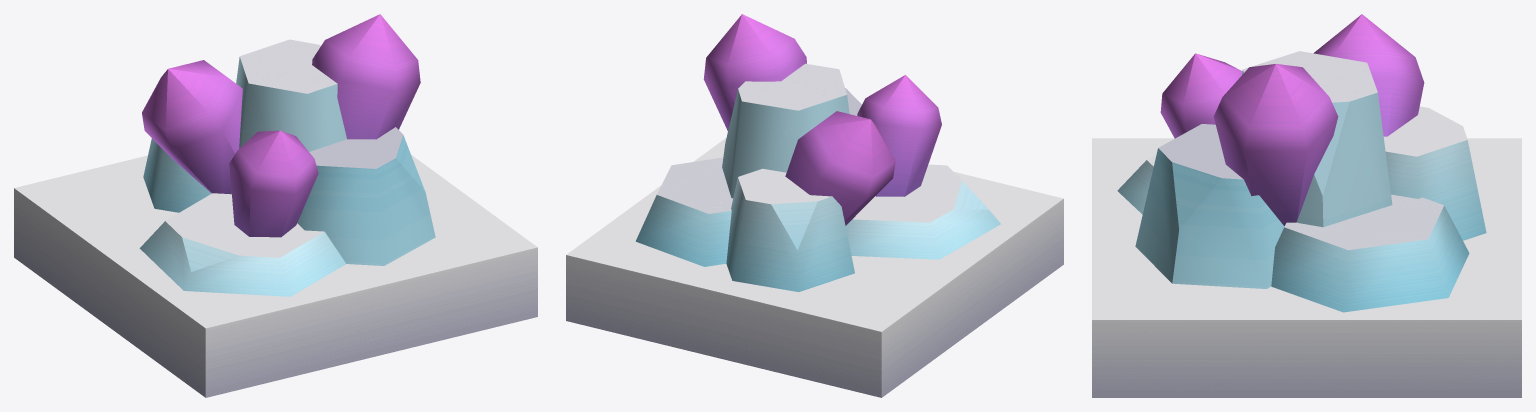
File: tower-defense-kit--snow-tile-crystal.glb
The picture shows the model from 3 angles, left to right: view 1: azimuth 30°, elevation 25°; view 2: azimuth 150°, elevation 25°; view 3: azimuth 270°, elevation 25°; orthographic projection. The views are drawn at different scales.
Visible parts, largest first — view 1: snow-tile-crystal; view 2: snow-tile-crystal; view 3: snow-tile-crystal.
Boxes of the visible parts, x1,y1,x2,y2 form: snow-tile-crystal: (14, 14, 537, 397); snow-tile-crystal: (566, 14, 1063, 397); snow-tile-crystal: (1092, 14, 1521, 397).
Size of the model in its own units: 1 by 0.7518 by 1.
1 material, 1 textured.
